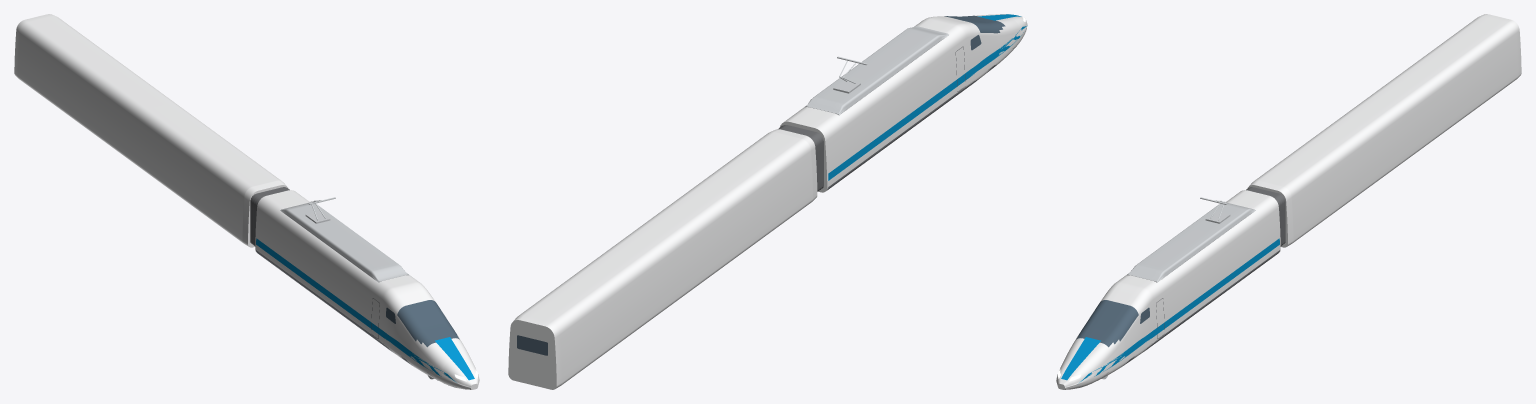
File: rail-highspeed.glb
3 views of the same model, side by side, from view 1: azimuth 30°, elevation 25°; view 2: azimuth 150°, elevation 25°; view 3: azimuth 330°, elevation 25° (orthographic). The views are drawn at different scales.
Parts seen in each view (by area): view 1: rail-highspeed; view 2: rail-highspeed; view 3: rail-highspeed.
Boxes of the visible parts, x1=… form: rail-highspeed: x1=14, y1=14, x2=479, y2=389; rail-highspeed: x1=508, y1=14, x2=1027, y2=389; rail-highspeed: x1=1056, y1=14, x2=1521, y2=389.
Bounding box in the file's own units: 2.93 × 5.39 × 49.01.
